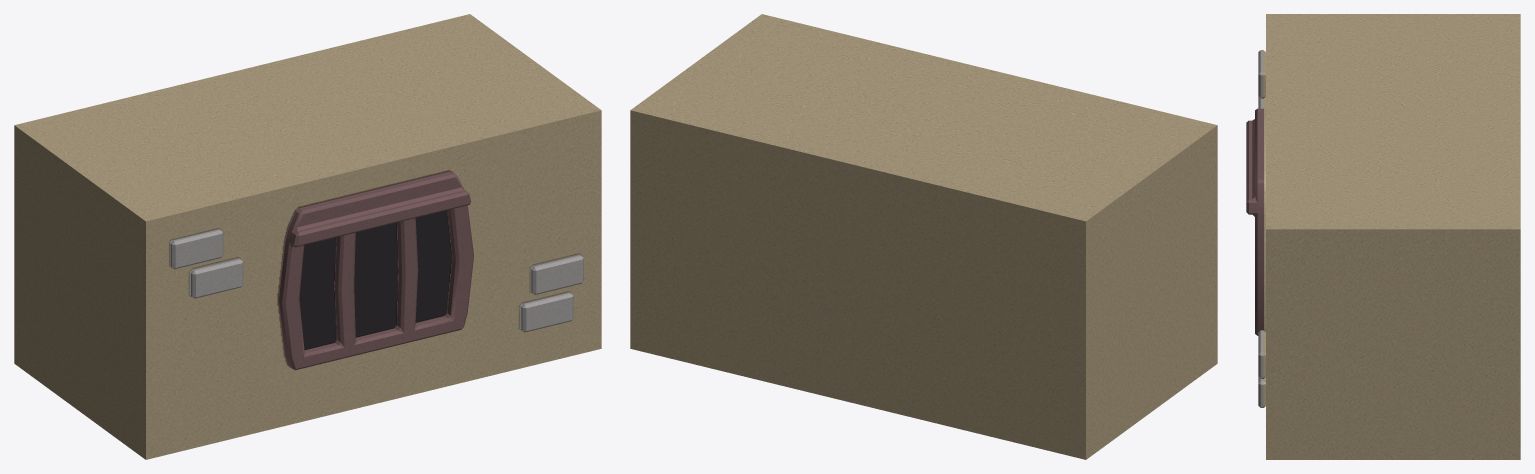
File: house_window2_LOD0.fbx
3 views of the same model, side by side, from view 1: azimuth 30°, elevation 25°; view 2: azimuth 150°, elevation 25°; view 3: azimuth 270°, elevation 25° (orthographic). The views are drawn at different scales.
Parts seen in each view (by area): view 1: house_window2_LOD0; view 2: house_window2_LOD0; view 3: house_window2_LOD0.
Part boxes in pixels (x1,y1,x2,y2): house_window2_LOD0: (14, 14, 601, 459); house_window2_LOD0: (630, 14, 1217, 459); house_window2_LOD0: (1246, 14, 1520, 459).
Size of the model in its own units: 400 by 200 by 215.
